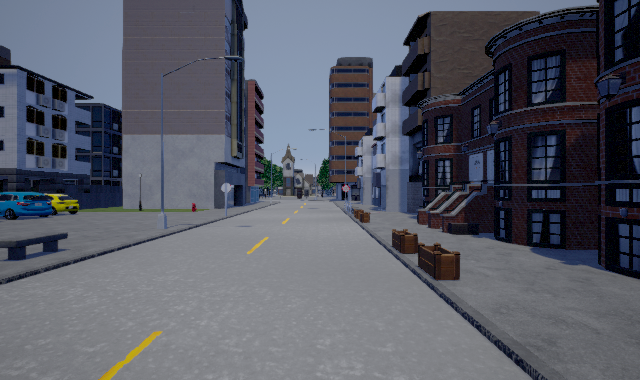traffic_sign: (342, 185, 350, 192)
vehicle: (1, 192, 51, 221), (37, 190, 82, 217)
